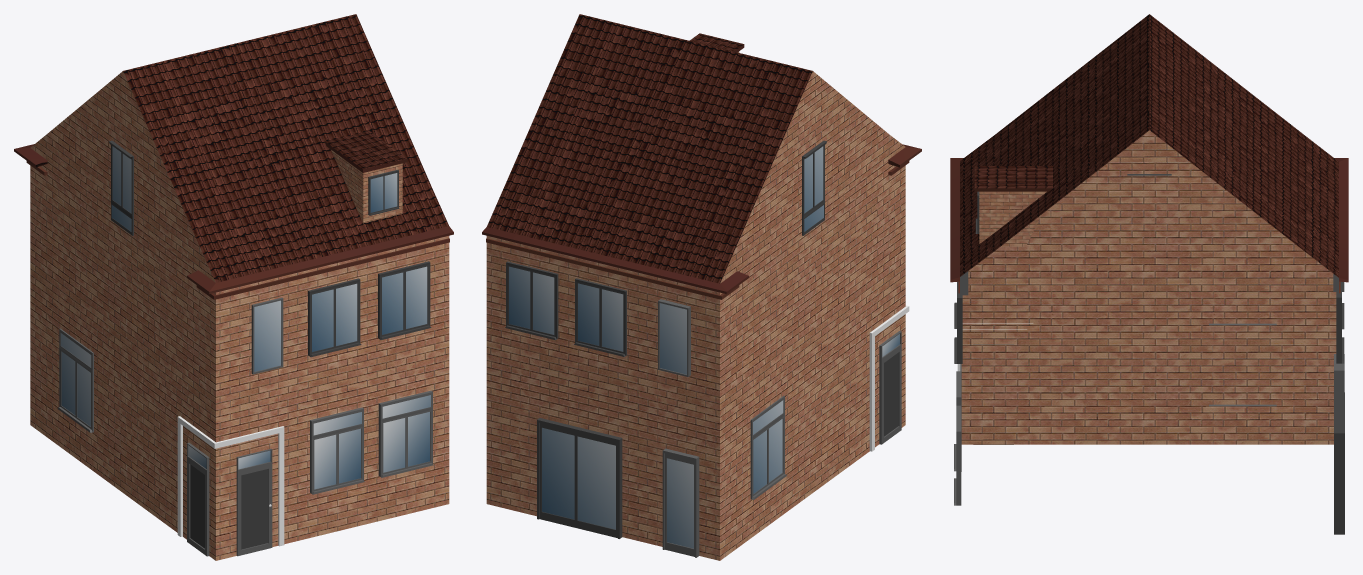
File: It_Tek_10.fbx
The picture shows the model from 3 angles, left to right: view 1: azimuth 30°, elevation 25°; view 2: azimuth 150°, elevation 25°; view 3: azimuth 270°, elevation 25°; orthographic projection. The views are drawn at different scales.
Parts seen in each view (by area): view 1: It_Tek_10; view 2: It_Tek_10; view 3: It_Tek_10.
Boxes of the visible parts, x1,y1,x2,y2 form: It_Tek_10: [14, 14, 453, 560]; It_Tek_10: [482, 14, 921, 560]; It_Tek_10: [950, 14, 1348, 534].
Size of the model in its own units: 6.19 by 10.2 by 8.55.
